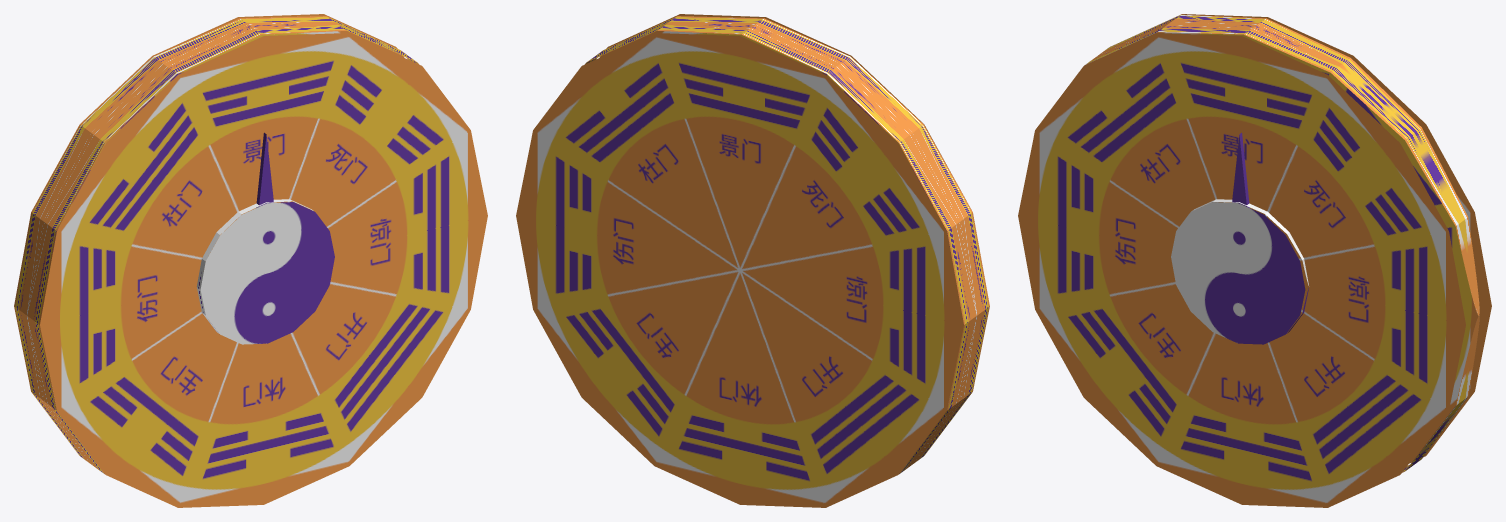
3 renders of one model, left to right at view 1: azimuth 30°, elevation 25°; view 2: azimuth 150°, elevation 25°; view 3: azimuth 330°, elevation 25°, orthographic.
Visible parts, largest first — view 1: 圆柱, 圆柱_1, 封顶_1; view 2: 圆柱; view 3: 圆柱, 圆柱_1, 封顶_1.
Boxes of the visible parts, left/top/right/bottom form: 圆柱: left=14, top=14, right=487, bottom=507; 圆柱_1: left=196, top=199, right=334, bottom=344; 封顶_1: left=259, top=135, right=273, bottom=206; 圆柱: left=516, top=14, right=989, bottom=507; 圆柱: left=1018, top=14, right=1491, bottom=507; 圆柱_1: left=1171, top=199, right=1309, bottom=344; 封顶_1: left=1232, top=135, right=1246, bottom=206.
Bounding box in the file's own units: 100 × 100 × 11.5.
Materials: 3 (2 with a texture image).
